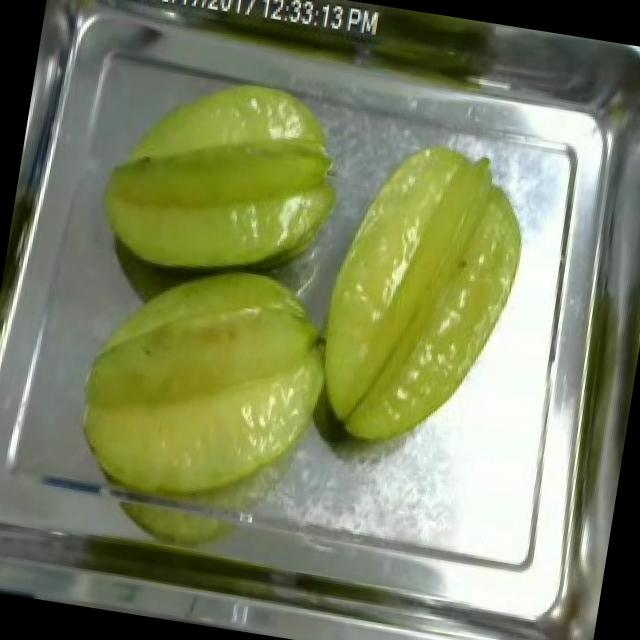fruit: (52, 234, 360, 538), (284, 117, 544, 470), (80, 49, 365, 304)
